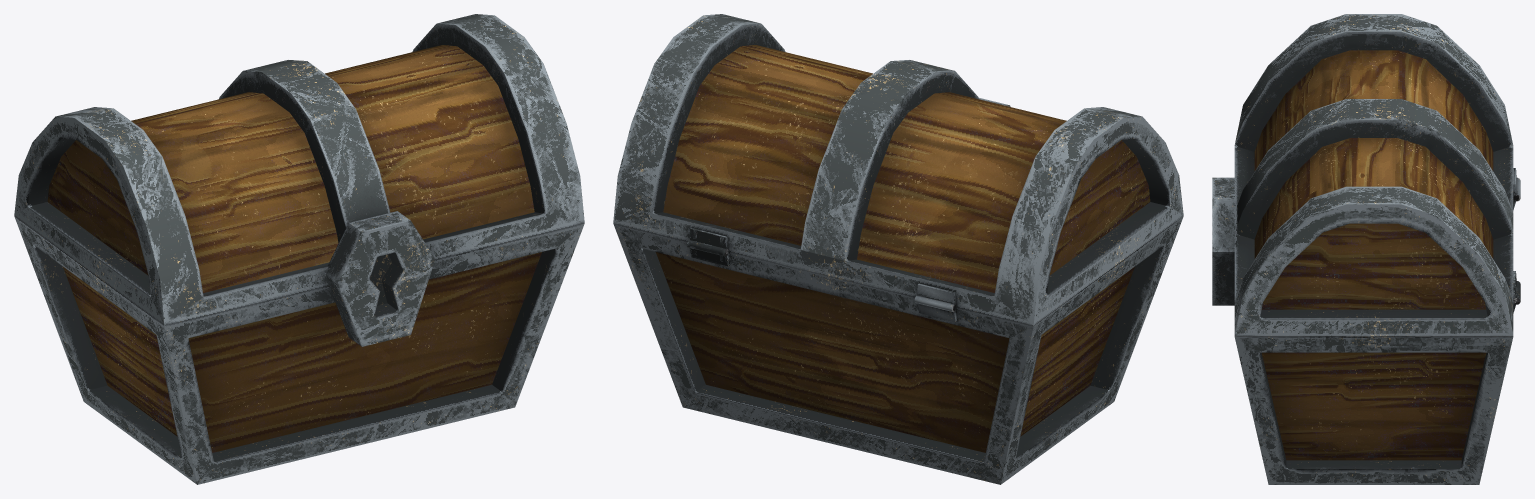
Rendered from chest2.glb.
3 views of the same model, side by side, from view 1: azimuth 30°, elevation 25°; view 2: azimuth 150°, elevation 25°; view 3: azimuth 270°, elevation 25° (orthographic). The views are drawn at different scales.
Parts seen in each view (by area): view 1: chest_uv; view 2: chest_uv; view 3: chest_uv.
Boxes of the visible parts, box(x1,y1,x2,y2) form: chest_uv: box(14, 14, 584, 484); chest_uv: box(613, 14, 1183, 484); chest_uv: box(1212, 14, 1520, 484).
Size of the model in its own units: 2.14 by 1.59 by 1.46.
Materials: 1 (1 with a texture image).
